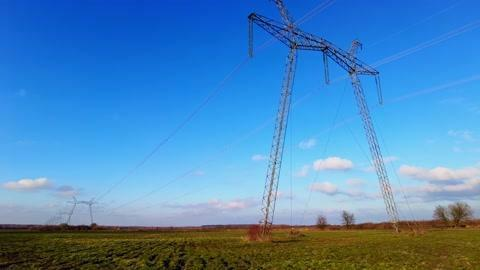power_tower: (248, 1, 407, 238), (67, 190, 104, 226)
